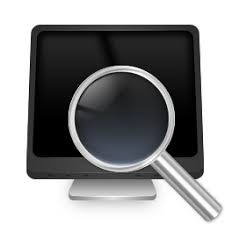searchIcon: (65, 63, 225, 223)
